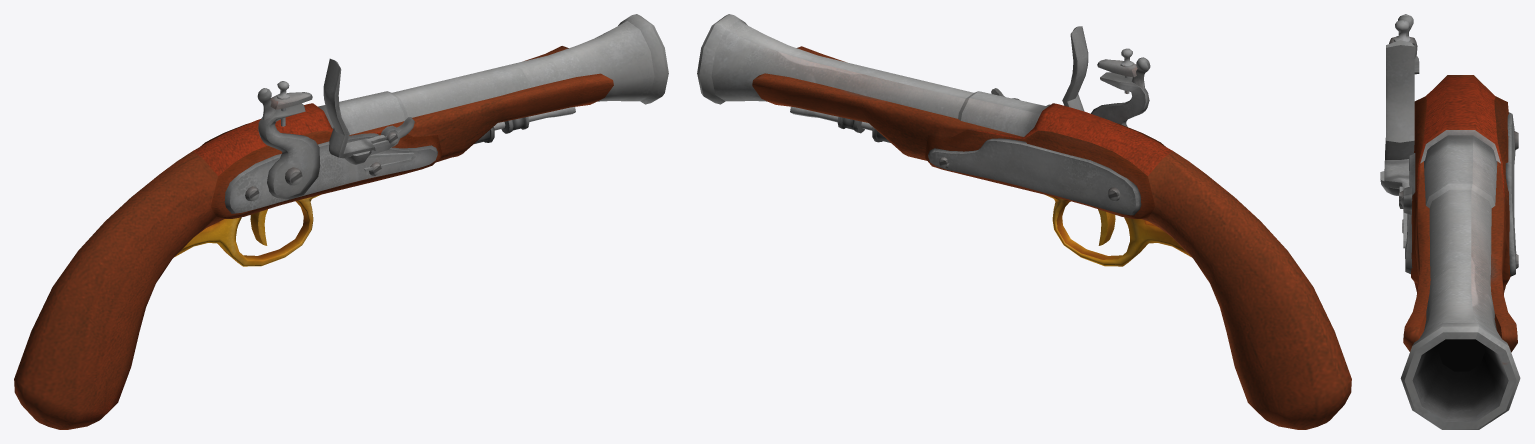
Rendered from PirateGun.fbx.
The picture shows the model from 3 angles, left to right: view 1: azimuth 30°, elevation 25°; view 2: azimuth 150°, elevation 25°; view 3: azimuth 270°, elevation 25°; orthographic projection. The views are drawn at different scales.
Visible parts, largest first — view 1: GUN; view 2: GUN; view 3: GUN.
Boxes of the visible parts, bbox=[...] form: GUN: bbox=[14, 14, 668, 429]; GUN: bbox=[697, 14, 1351, 429]; GUN: bbox=[1380, 14, 1520, 429].
Bounding box in the file's own units: 116 × 56.84 × 17.05.
1 material, 1 textured.
